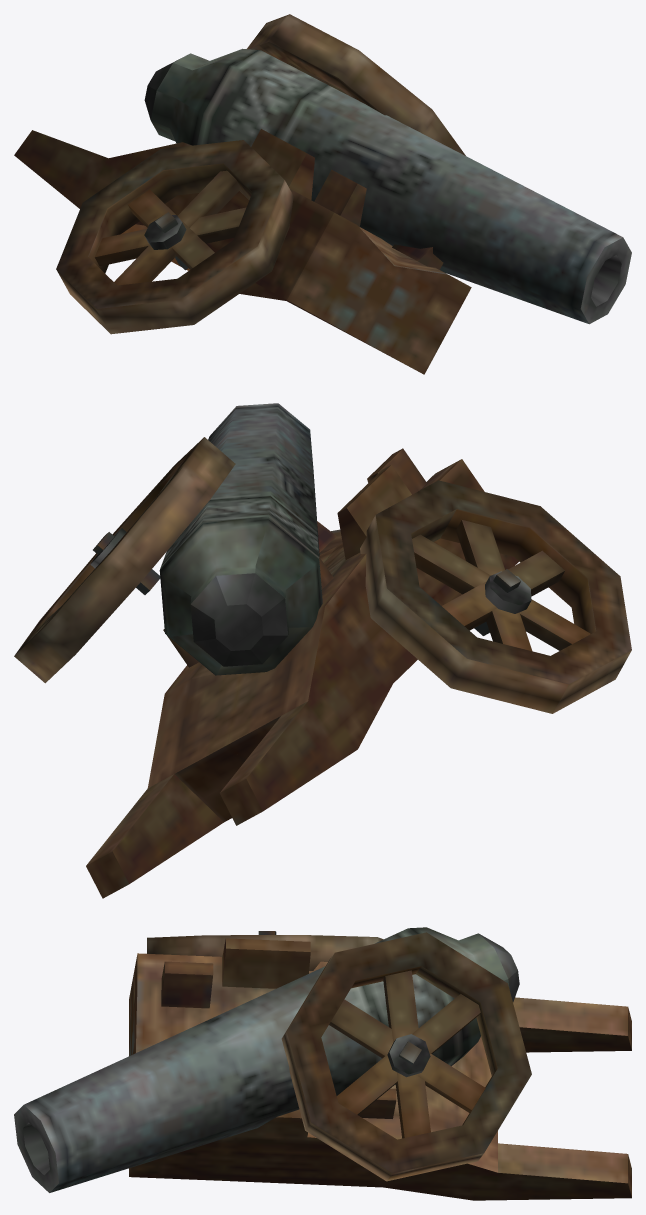
Rendered from b_general_obj_05_1.fbx.
The picture shows the model from 3 angles, top to bottom: view 1: azimuth 30°, elevation 25°; view 2: azimuth 150°, elevation 25°; view 3: azimuth 270°, elevation 25°; orthographic projection. The views are drawn at different scales.
Parts seen in each view (by area): view 1: Sphere01; view 2: Sphere01; view 3: Sphere01.
Part boxes in pixels (<box>): Sphere01: <box>14,14,631,374</box>; Sphere01: <box>14,403,631,898</box>; Sphere01: <box>14,927,631,1200</box>.
Bounding box in the file's own units: 2.55 × 1.55 × 3.02.
